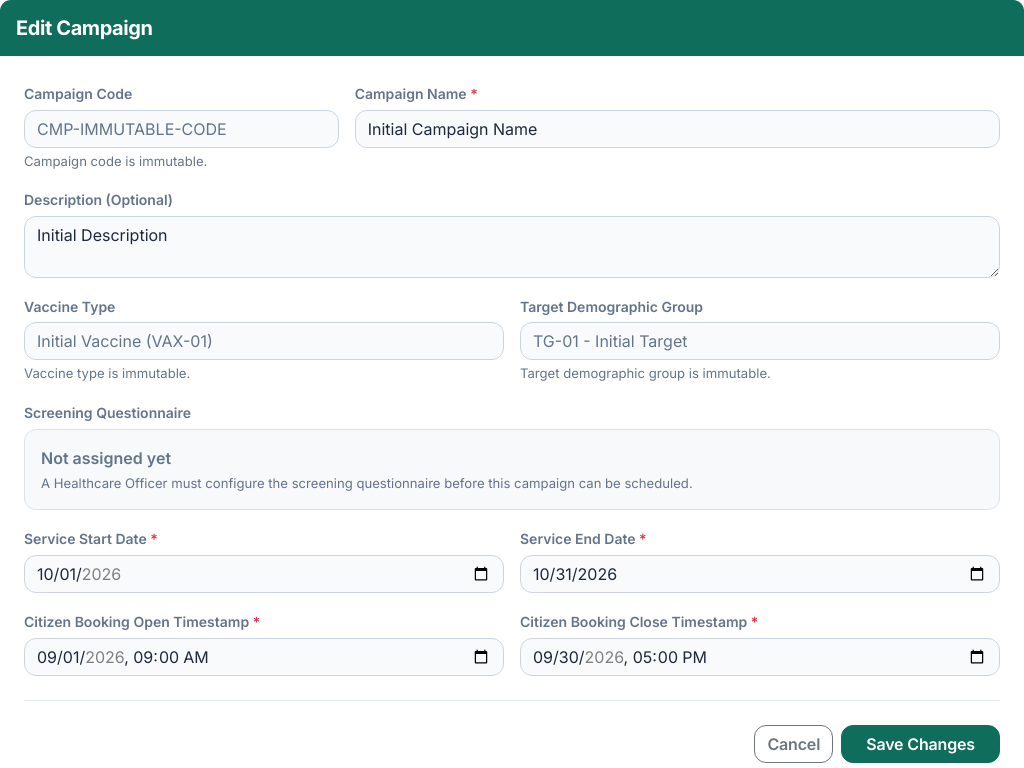
Scenario: CampaignForm — Create and Edit Modes › edit mode rejects service end date before service start date with inline feedback
Set end date before start date
Step 1. Type "2026-09-01" into the date field labelled "Service End Date *" → (760, 574), box top-left (520, 555), bottom-right (1000, 593)
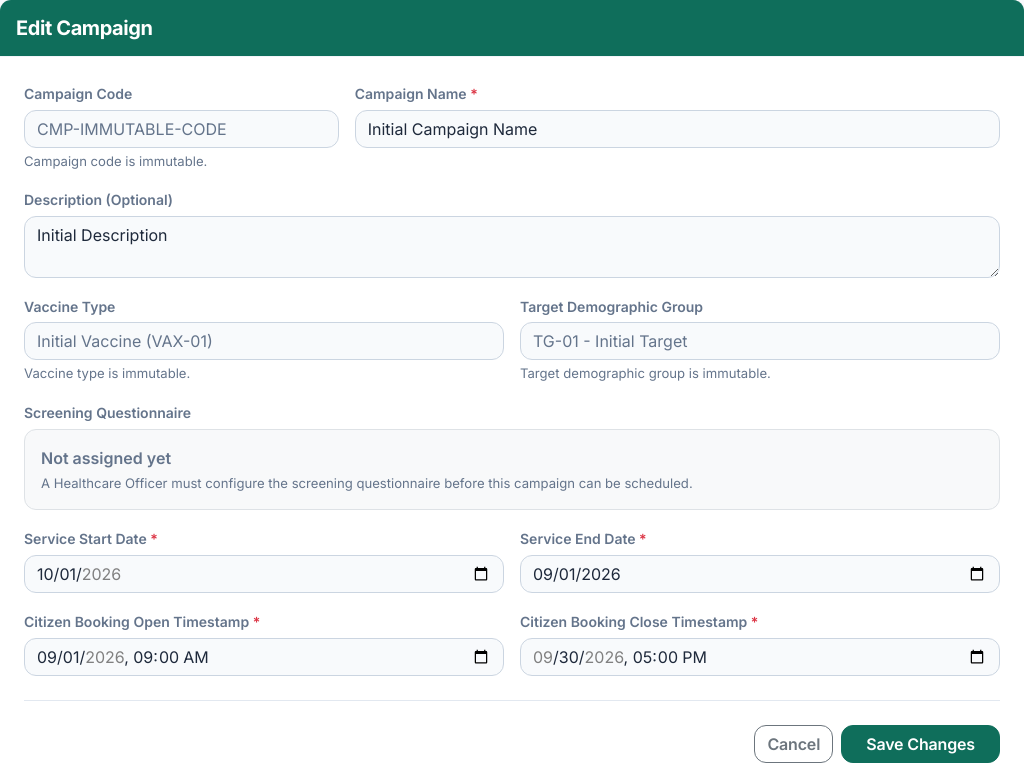
Step 2. Click the button "Save Changes" → (921, 744), box top-left (841, 725), bottom-right (1000, 763)
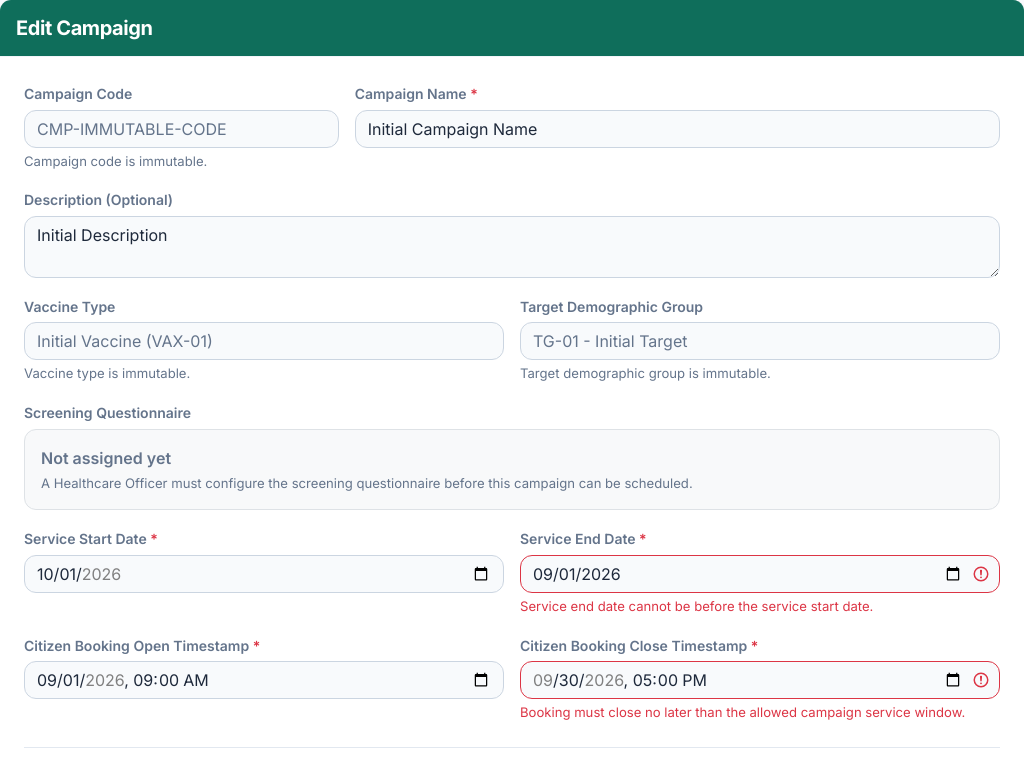
expect the text "Service end date cannot be before the service start date." is shown: met, box top-left (520, 598), bottom-right (873, 614)
